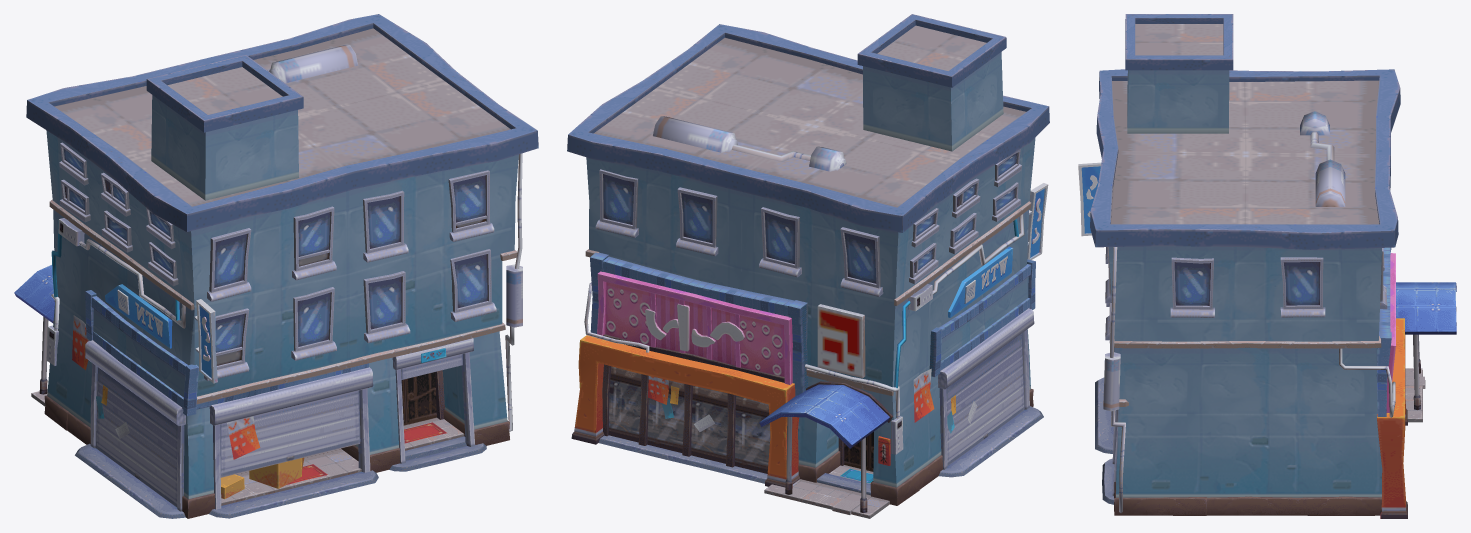
Rendered from hbxz_jz004_02.FBX.
3 views of the same model, side by side, from view 1: azimuth 30°, elevation 25°; view 2: azimuth 150°, elevation 25°; view 3: azimuth 270°, elevation 25° (orthographic). The views are drawn at different scales.
Parts seen in each view (by area): view 1: hbxz_jz004_02; view 2: hbxz_jz004_02; view 3: hbxz_jz004_02.
Part boxes in pixels (bbox=[...]): hbxz_jz004_02: bbox=[14, 14, 538, 518]; hbxz_jz004_02: bbox=[567, 14, 1049, 518]; hbxz_jz004_02: bbox=[1078, 14, 1456, 518].
Size of the model in its own units: 825 by 840 by 785.
3 materials, 3 textured.
